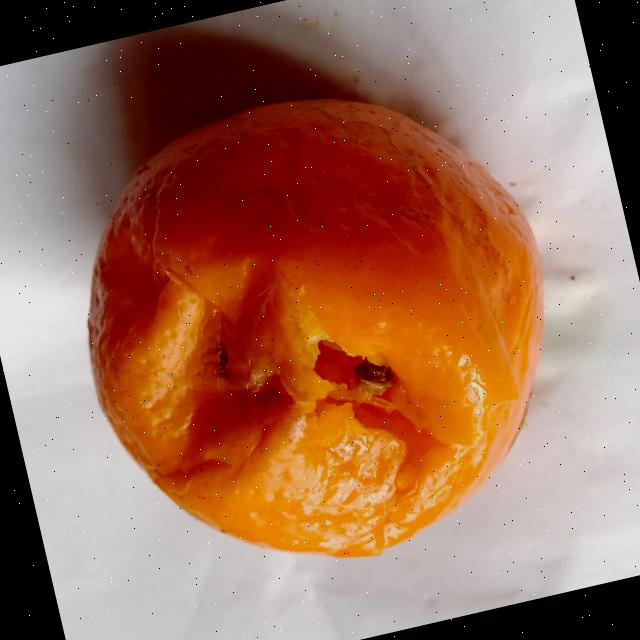Rotten: (42, 50, 600, 612)
